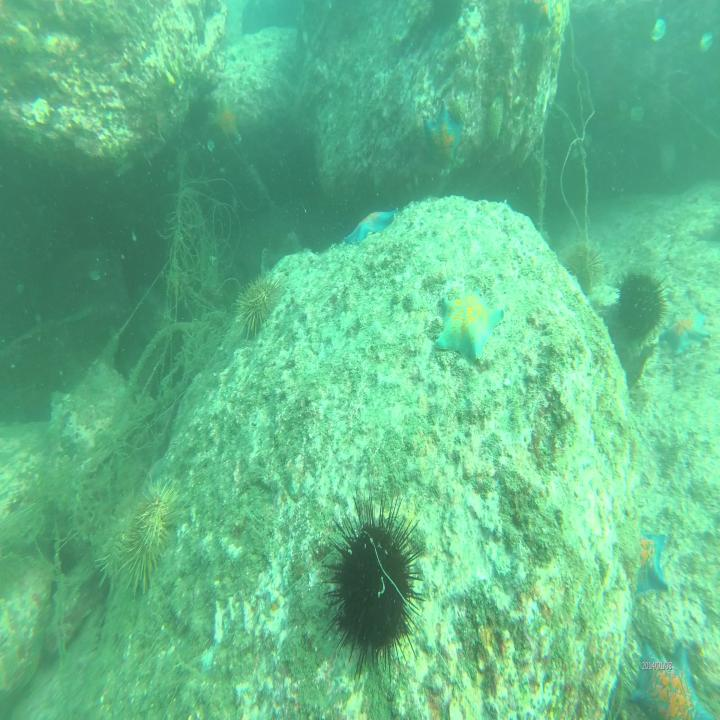echinus: (328, 512, 420, 658), (619, 269, 666, 341), (118, 520, 161, 596), (238, 276, 284, 338), (136, 484, 180, 546), (102, 518, 133, 587), (566, 243, 604, 294)
starfish: (439, 288, 502, 365), (638, 643, 694, 708), (425, 106, 466, 169), (635, 527, 669, 598), (662, 309, 709, 360), (344, 206, 397, 248), (212, 98, 245, 152)
